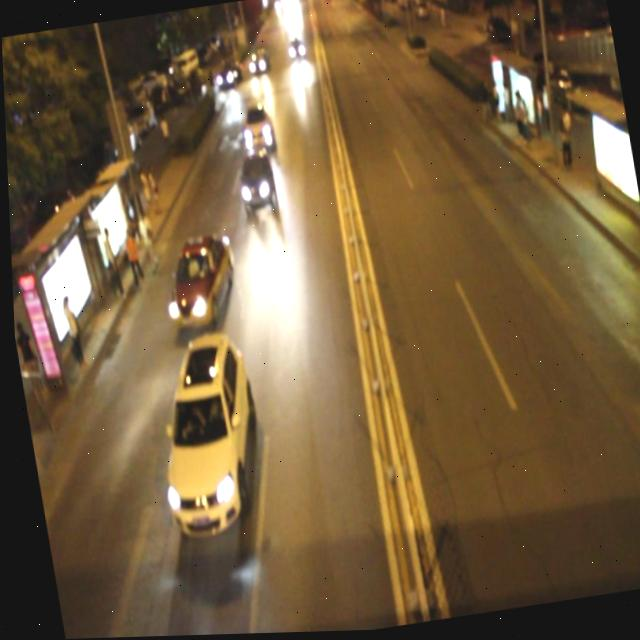car: (139, 330, 269, 540), (153, 227, 240, 333), (231, 149, 276, 213), (237, 102, 274, 153), (244, 47, 270, 78)
